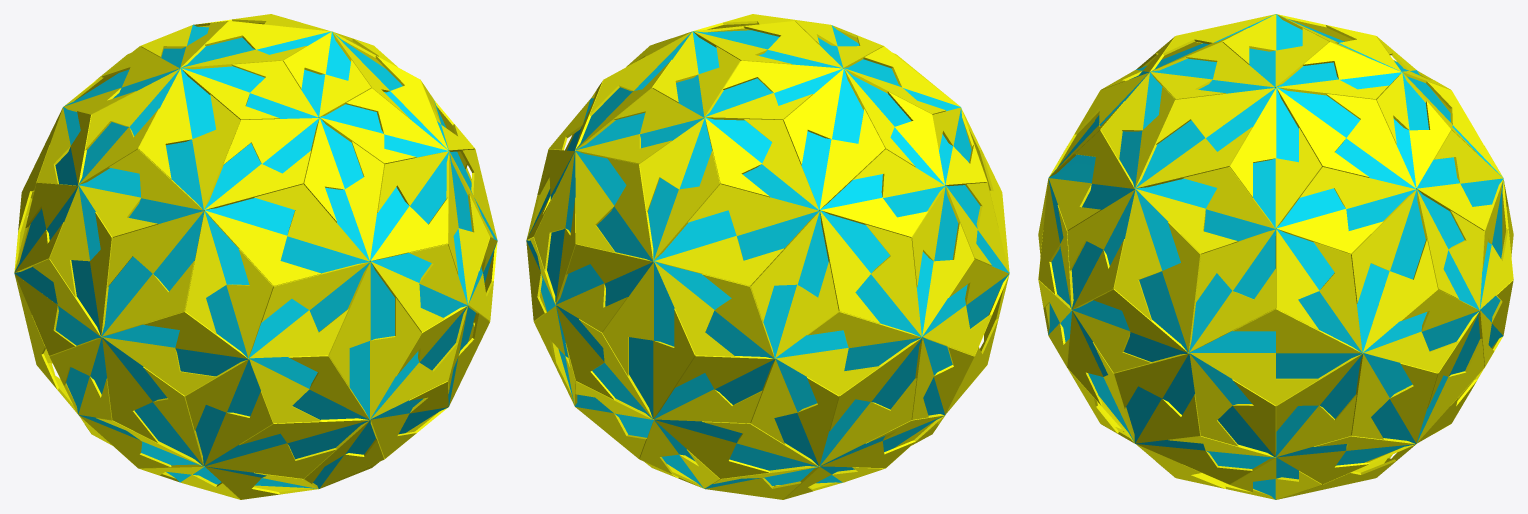
The model's file is SmallHexagonalHexecontahedronSF.glb.
3 renders of one model, left to right at view 1: azimuth 30°, elevation 25°; view 2: azimuth 150°, elevation 25°; view 3: azimuth 270°, elevation 25°, orthographic.
Parts seen in each view (by area): view 1: root; view 2: root; view 3: root.
Boxes of the visible parts, x1,y1,x2,y2 form: root: (14, 14, 497, 499); root: (526, 14, 1009, 499); root: (1038, 14, 1513, 499).
Bounding box in the file's own units: 9.6 × 9.6 × 9.6.
